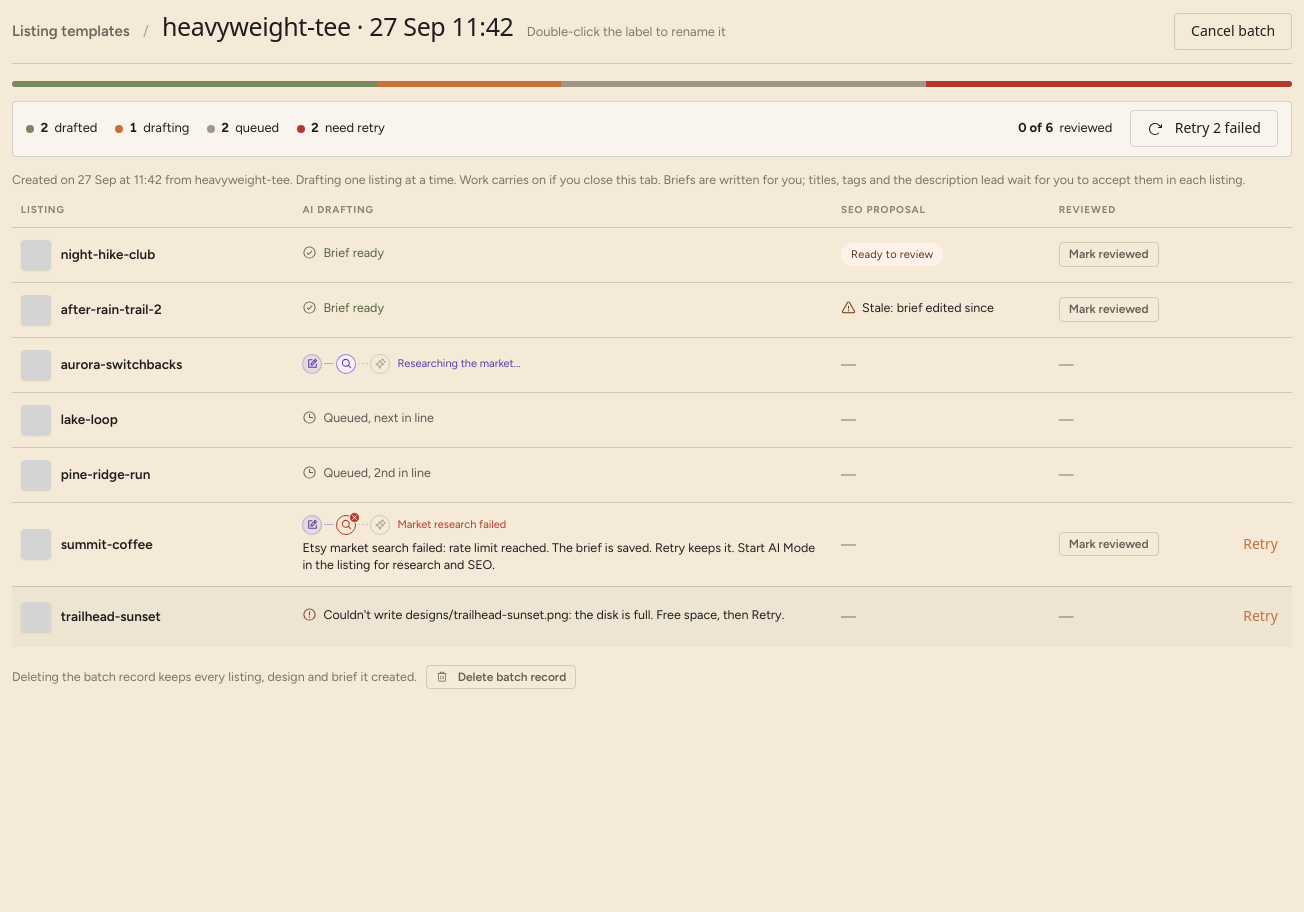
Test case: BatchSummaryPage › cancels the batch, then offers Resume
The image size is (1304, 912).
Click the button "Cancel batch".
click(1233, 31)  # box [1174, 13, 1292, 50]
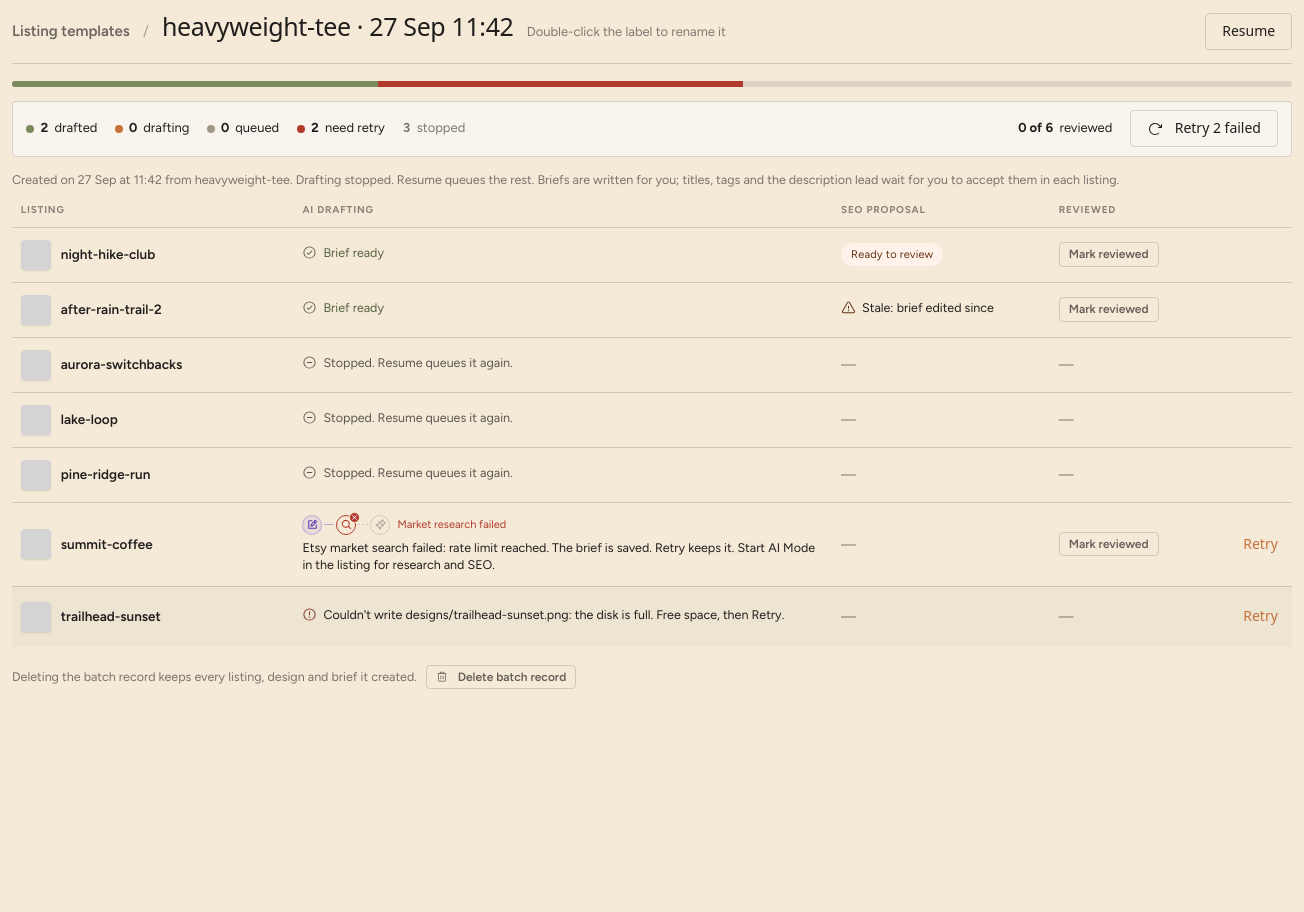
Result: the text "Stopped. Resume queues it again." in the row of "lake-loop" is shown at [323, 410, 513, 425]
Result: the button "Cancel batch" is gone
Click the button "Resume".
click(1249, 31)  # box [1205, 13, 1292, 50]
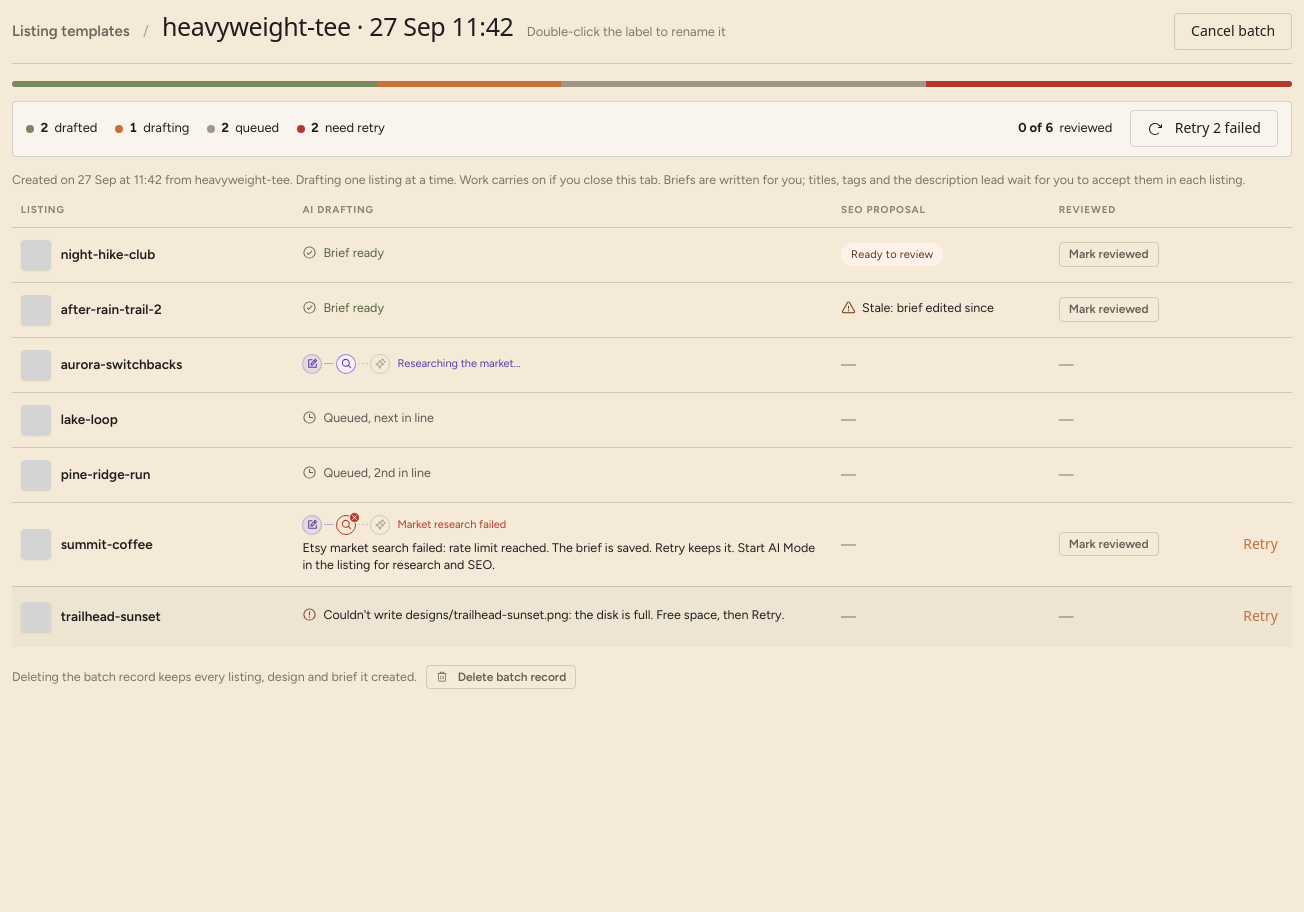
Result: the button "Cancel batch" is shown at [1174, 13, 1292, 50]
